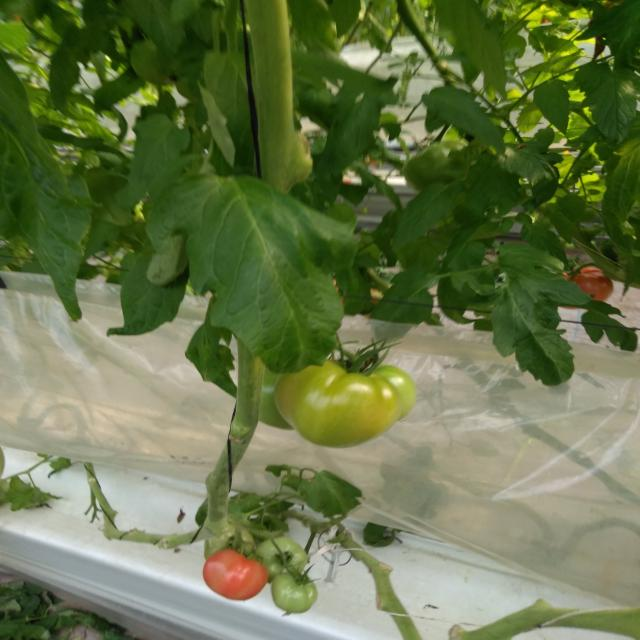n-half-riped: (202, 550, 269, 600)
n-riped: (557, 266, 614, 309)
n-unriped: (272, 359, 416, 449), (254, 536, 308, 584), (258, 366, 294, 431), (204, 524, 255, 561), (271, 574, 318, 614)
